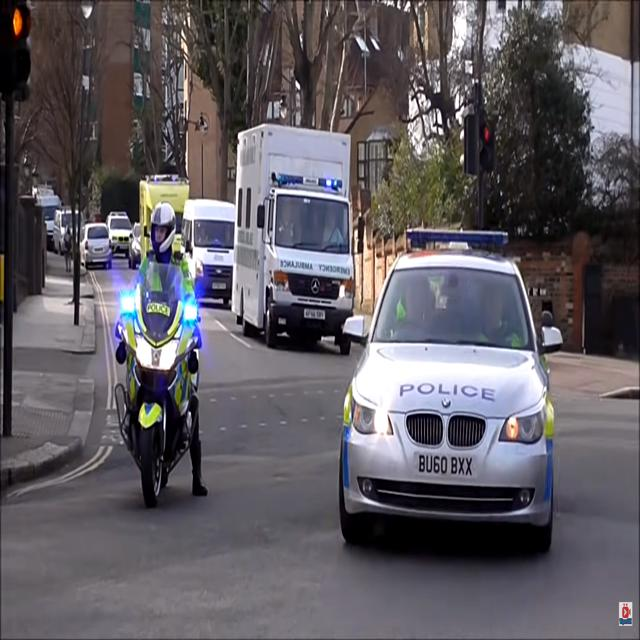emergency-vehicles: (316, 213, 576, 582), (73, 183, 258, 547)
